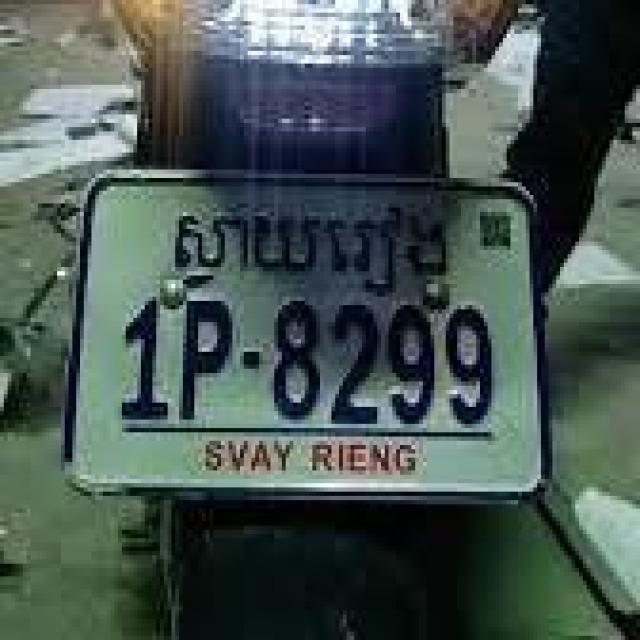Svay_Rieng: (172, 199, 450, 298)
